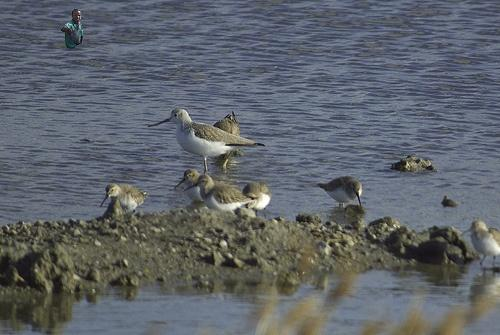tampered: (62, 9, 83, 49)
